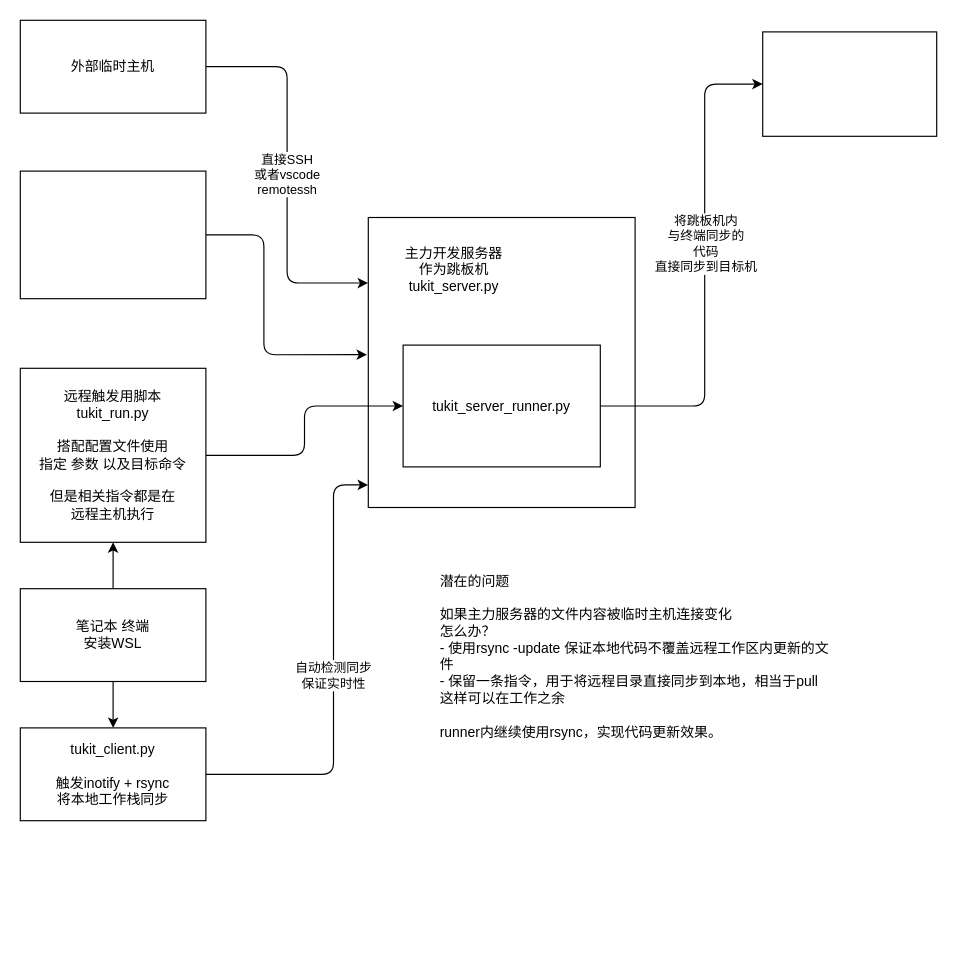
Some shapes in this 957 by 969 pixel diagram are drawn without their labels. The shapes that lost their labels are listed below. From the top down, each one's centre as x and y in pixels, then its label:
[849,83]: 部署服务器
[112,234]: 快捷指令初始化 相关软件初始化 配置好软件后 实现自动配置ssh
